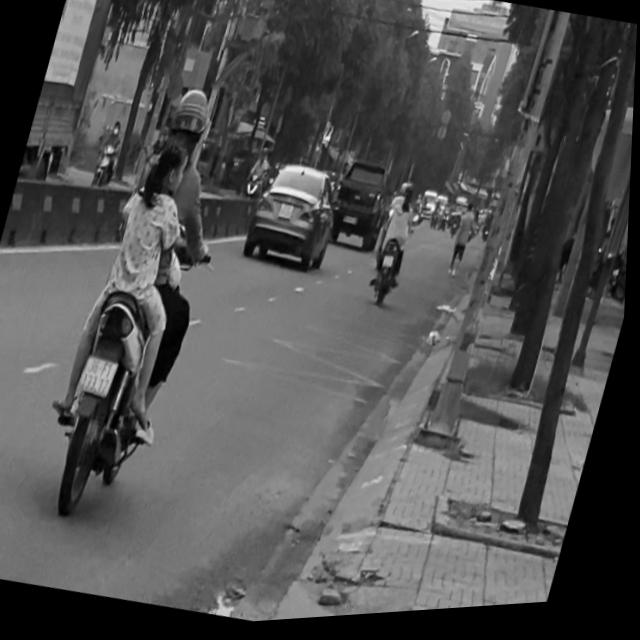helmet: (162, 82, 216, 158)
licenseplate: (26, 69, 254, 531)
motorcyclist: (145, 137, 194, 204)
nohelmet: (80, 353, 120, 397)
